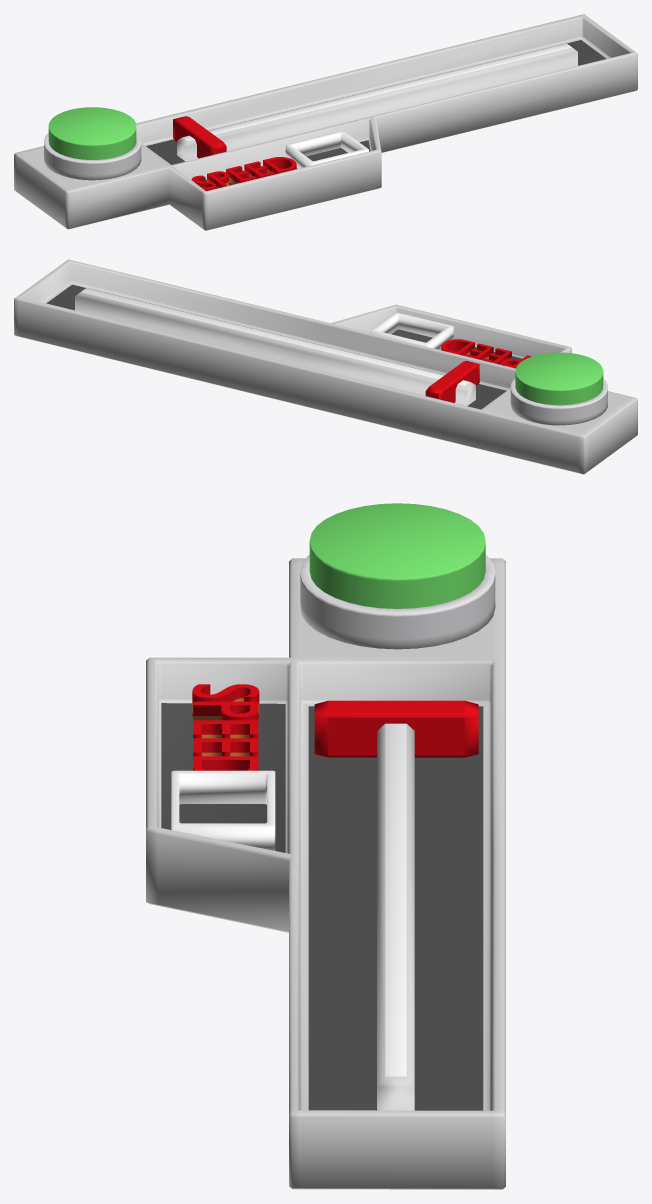
Rendered from hud.gltf.
3 views of the same model, one above another, from view 1: azimuth 30°, elevation 25°; view 2: azimuth 150°, elevation 25°; view 3: azimuth 270°, elevation 25° (orthographic). The views are drawn at different scales.
Visible parts, largest first — view 1: Cube.005, Cylinder.001, Cube.003; view 2: Cube.005, Cylinder.001, Cube.003; view 3: Cube.005, Cylinder.001, Cube.003.
Boxes of the visible parts, x1,y1,x2,y2 form: Cube.005: [14, 14, 637, 230]; Cylinder.001: [48, 107, 136, 159]; Cube.003: [173, 116, 226, 158]; Cube.005: [14, 259, 637, 474]; Cylinder.001: [515, 352, 603, 405]; Cube.003: [425, 361, 479, 402]; Cube.005: [146, 555, 505, 1189]; Cylinder.001: [309, 503, 485, 608]; Cube.003: [314, 700, 478, 757].
Bounding box in the file's own units: 21.8 × 2.62 × 5.94.
